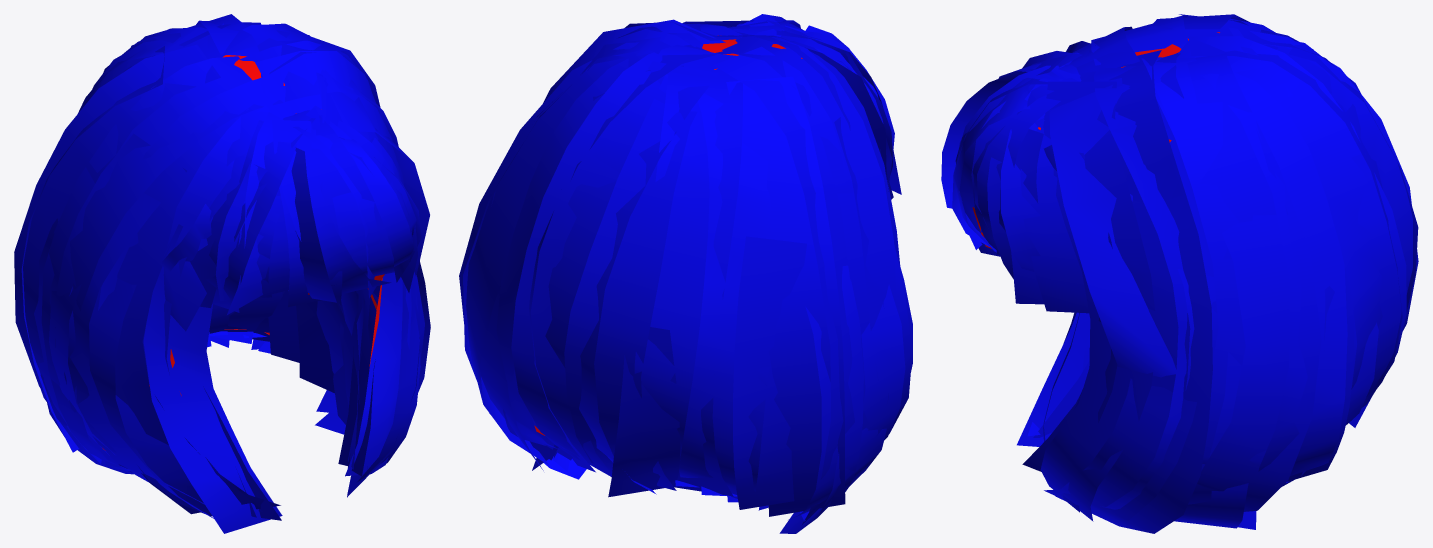
Rendered from hair_005.obj.
3 renders of one model, left to right at view 1: azimuth 30°, elevation 25°; view 2: azimuth 150°, elevation 25°; view 3: azimuth 270°, elevation 25°, orthographic. The views are drawn at different scales.
Size of the model in its own units: 25.76 by 28.27 by 27.39.
